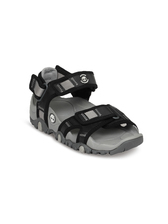shoes: (26, 70, 149, 156)
